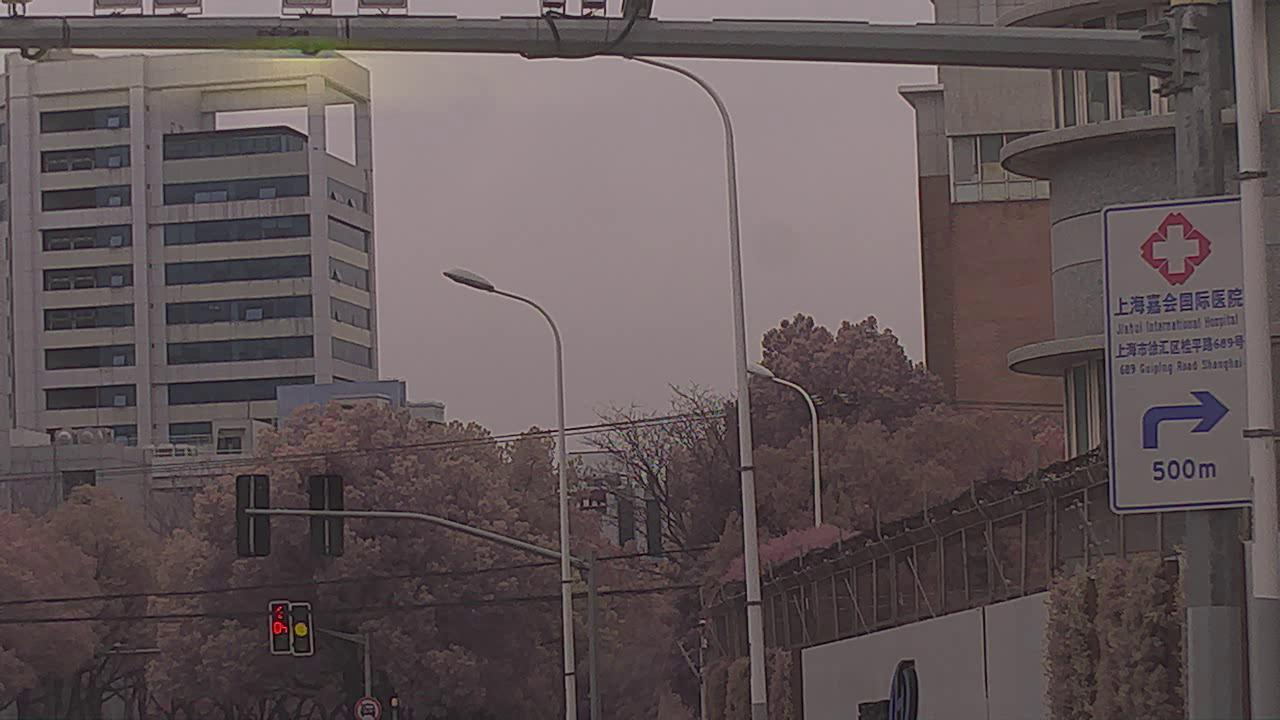traffic_light: (288, 601, 310, 656), (270, 602, 291, 653)
